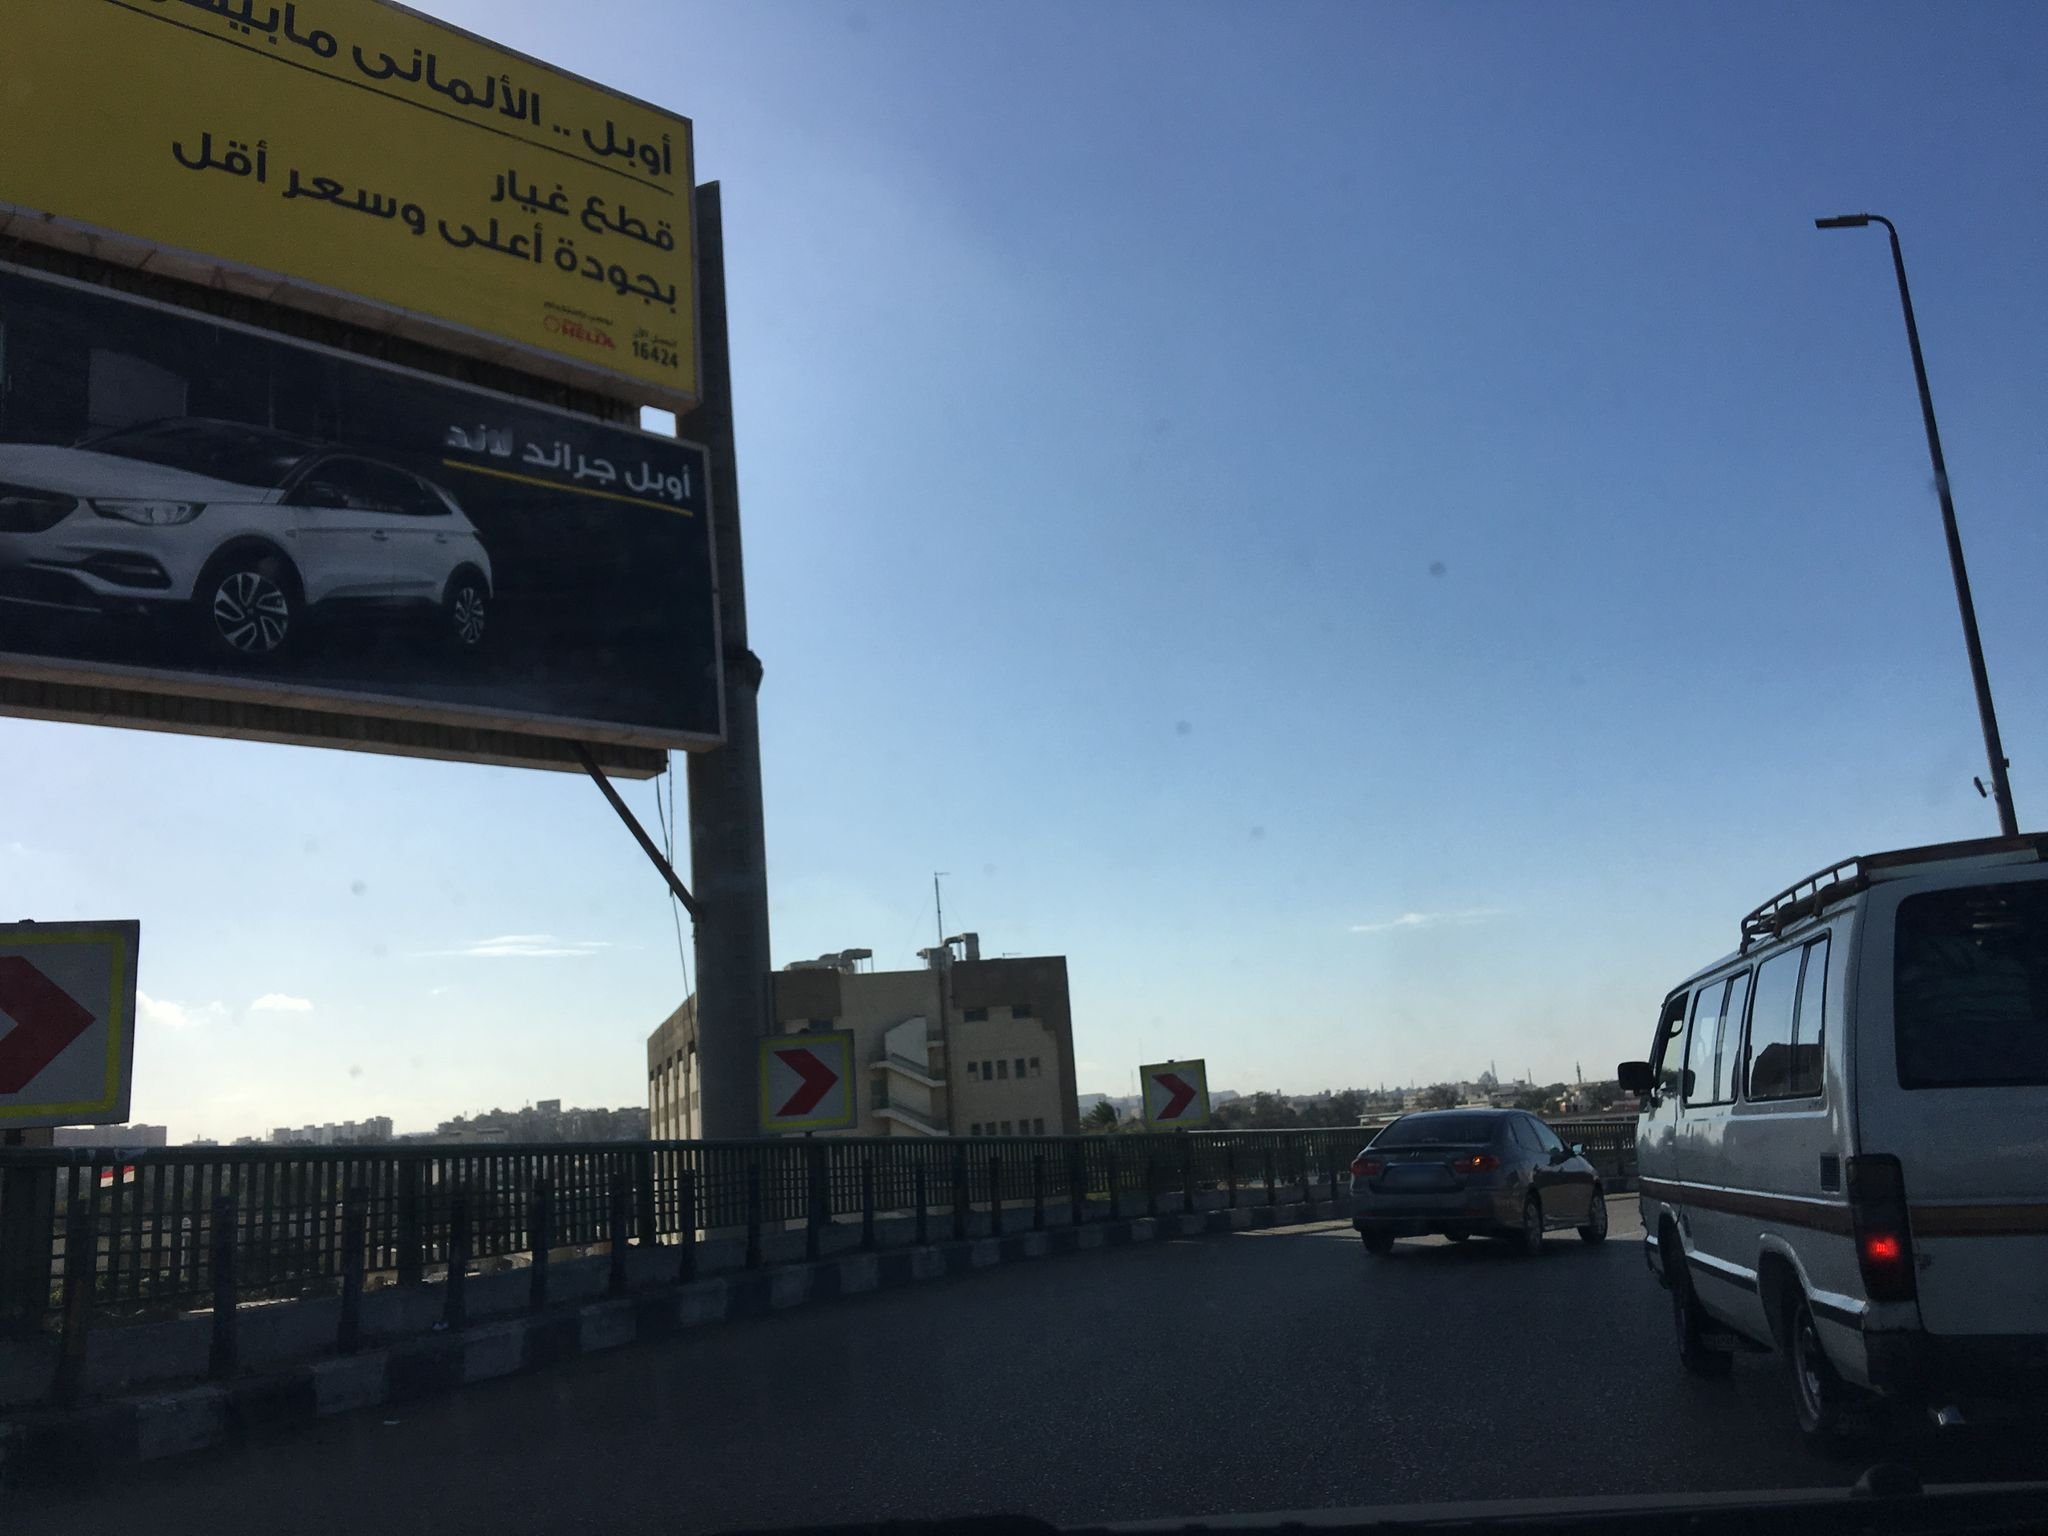car: (1617, 829, 2046, 1454), (1347, 1107, 1608, 1250)
